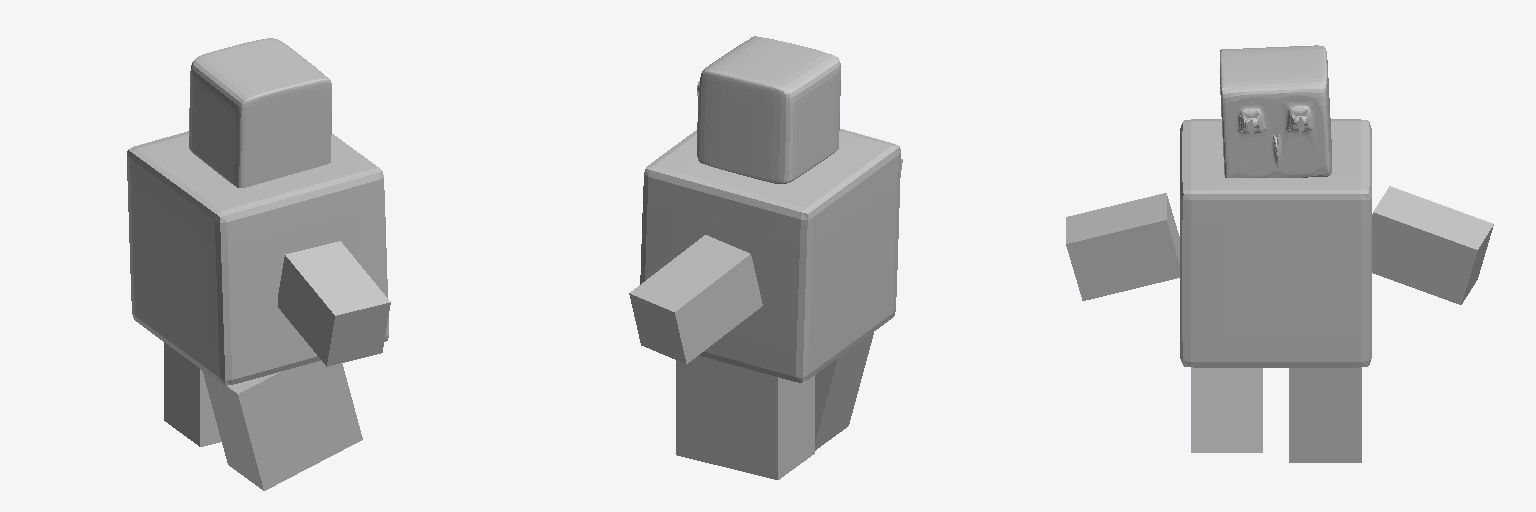
The picture shows the model from 3 angles: view 1: azimuth 30°, elevation 25°; view 2: azimuth 150°, elevation 25°; view 3: azimuth 270°, elevation 25°; orthographic projection.
Parts seen in each view (by area): view 1: Cube_Cube.001, Cube.001_Cube.002, Cube.002_Cube.003, Cube.005_Cube.007, Cube.003_Cube.004; view 2: Cube_Cube.001, Cube.001_Cube.002, Cube.003_Cube.004, Cube.004_Cube.005, Cube.002_Cube.003; view 3: Cube_Cube.001, Cube.001_Cube.002, Cube.004_Cube.005, Cube.005_Cube.007, Cube.003_Cube.004, Cube.002_Cube.003.
Boxes of the visible parts, x1=… form: Cube_Cube.001: x1=127, y1=131, x2=388, y2=385; Cube.001_Cube.002: x1=189, y1=38, x2=331, y2=187; Cube.002_Cube.003: x1=202, y1=360, x2=362, y2=490; Cube.005_Cube.007: x1=278, y1=241, x2=390, y2=366; Cube.003_Cube.004: x1=164, y1=342, x2=221, y2=446; Cube_Cube.001: x1=640, y1=129, x2=900, y2=382; Cube.001_Cube.002: x1=697, y1=36, x2=840, y2=183; Cube.003_Cube.004: x1=676, y1=355, x2=814, y2=479; Cube.004_Cube.005: x1=629, y1=235, x2=762, y2=363; Cube.002_Cube.003: x1=815, y1=332, x2=873, y2=450; Cube_Cube.001: x1=1180, y1=119, x2=1371, y2=367; Cube.001_Cube.002: x1=1220, y1=45, x2=1331, y2=177; Cube.004_Cube.005: x1=1372, y1=186, x2=1493, y2=304; Cube.005_Cube.007: x1=1066, y1=193, x2=1179, y2=300; Cube.003_Cube.004: x1=1289, y1=367, x2=1361, y2=462; Cube.002_Cube.003: x1=1191, y1=367, x2=1262, y2=452.
Size of the model in its own units: 1.5 by 3.24 by 3.24.